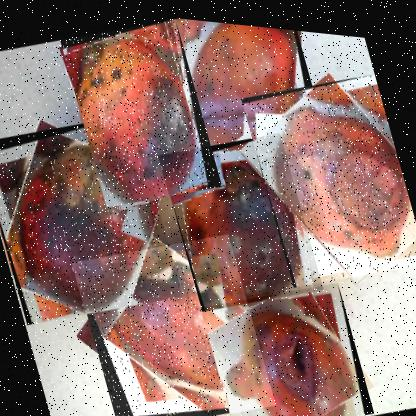pomegranate_rotten: (0, 101, 183, 340), (239, 55, 415, 294), (71, 216, 277, 415), (59, 6, 222, 216), (157, 117, 323, 319), (161, 13, 329, 176), (198, 264, 375, 415)
